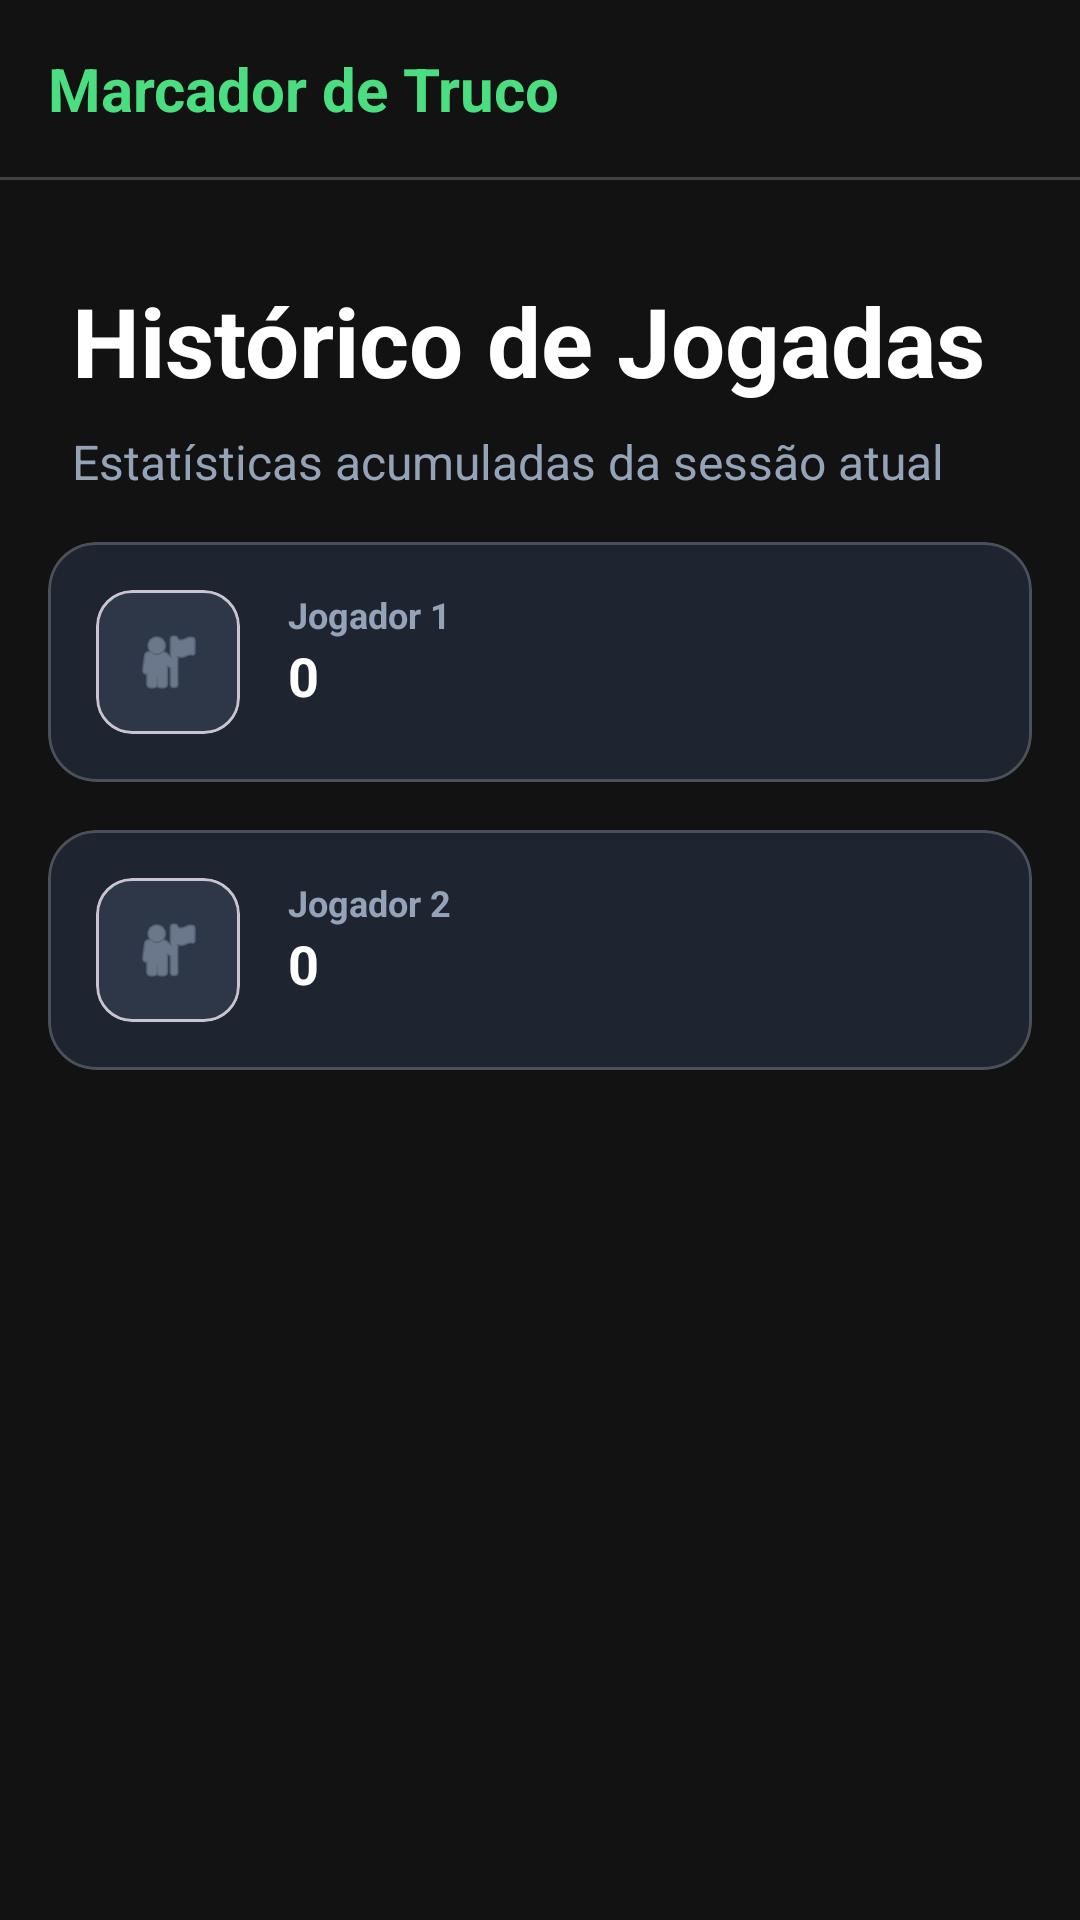

Point at icon controls on the screen. Image size 1080 × 1920, points as [x,y].
myplaces: [169,662], [169,950]
